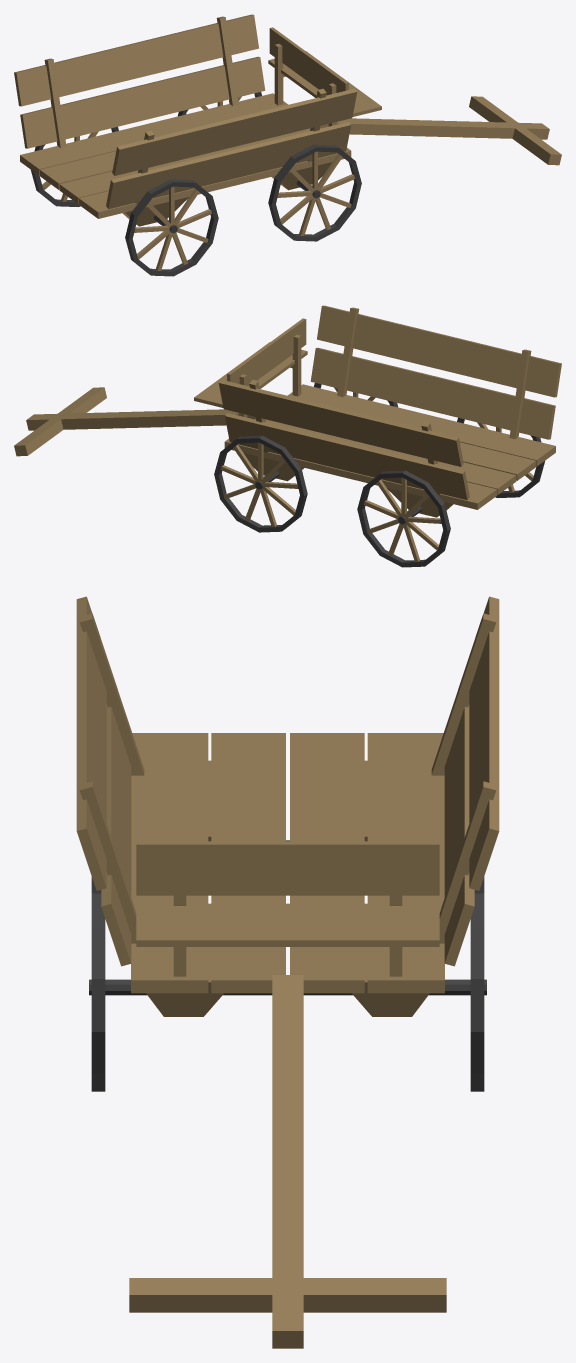
Rendered from Large Wagon base.fbx.
The picture shows the model from 3 angles, top to bottom: view 1: azimuth 30°, elevation 25°; view 2: azimuth 150°, elevation 25°; view 3: azimuth 270°, elevation 25°; orthographic projection. The views are drawn at different scales.
Parts seen in each view (by area): view 1: Cube.261, Cylinder.064; view 2: Cube.261, Cylinder.064; view 3: Cube.261, Cylinder.064.
Part boxes in pixels (x1,y1,x2,y2): Cube.261: [14, 14, 561, 270]; Cylinder.064: [31, 92, 361, 276]; Cube.261: [14, 305, 561, 561]; Cylinder.064: [214, 383, 544, 567]; Cube.261: [76, 596, 499, 1348]; Cylinder.064: [89, 840, 486, 1091].
Bounding box in the file's own units: 5.5 × 1.63 × 2.07.
